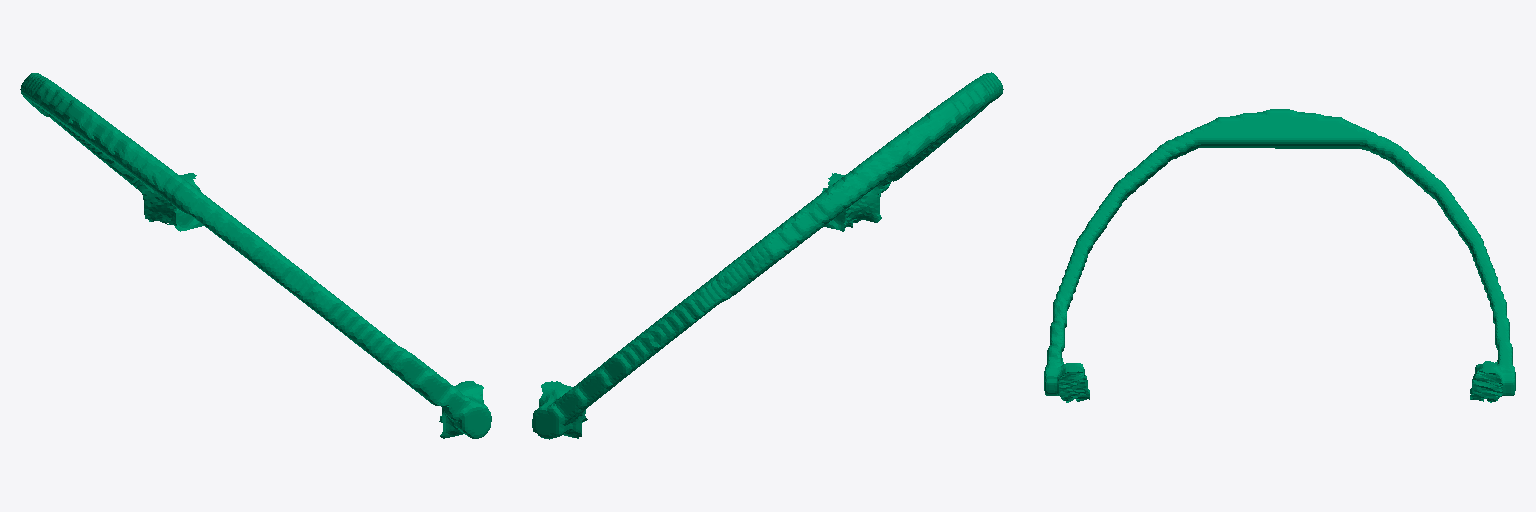
robot.urdf — object:
<?xml version='1.0' encoding='utf-8'?>
<robot name="object">
  <link name="base">
    <inertial>
      <origin xyz="0 0 0" rpy="0 0 0" />
      <mass value="0.0" />
      <inertia ixx="0" ixy="0" ixz="0" iyy="0" iyz="0" izz="0" />
    </inertial>
  </link>
  <link name="link_1">
    <visual>
      <origin xyz="0 0 0.680487752" rpy="0 0 0" />
      <geometry>
        <mesh filename="meshes/link_1.stl" />
      </geometry>
    </visual>
    <collision>
      <origin xyz="0 0 0.680487752" rpy="0 0 0" />
      <geometry>
        <mesh filename="meshes/link_1.stl" />
      </geometry>
    </collision>
    <inertial>
      <origin xyz="0.0265524849 -0.0234391734 0.667612729" rpy="0 0 0" />
      <mass value="281.840777" />
      <inertia ixx="100.429739" ixy="-0.0167552219" ixz="0.0537120247" iyy="101.670765" iyz="-0.108673892" izz="97.1469284" />
    </inertial>
  </link>
  <link name="link_2">
    <visual>
      <origin xyz="-0.026968776 -0.694366717 -0.572092519" rpy="0 0 0" />
      <geometry>
        <mesh filename="meshes/link_2.stl" />
      </geometry>
    </visual>
    <collision>
      <origin xyz="-0.026968776 -0.694366717 -0.572092519" rpy="0 0 0" />
      <geometry>
        <mesh filename="meshes/link_2.stl" />
      </geometry>
    </collision>
    <inertial>
      <origin xyz="-0.532994912 -0.727980616 0.902173859" rpy="0 0 0" />
      <mass value="10.0637241" />
      <inertia ixx="5.65813355" ixy="0.111222592" ixz="-1.73447032" iyy="2.33180695" iyz="0.0457833801" izz="5.08241464" />
    </inertial>
  </link>
  <joint name="joint_1_2" type="revolute">
    <parent link="link_1" />
    <child link="link_2" />
    <origin xyz="0.026968776 0.694366717 1.25258027" rpy="0 0 0" />
    <axis xyz="-0.00316817089 -0.9999947 0.000749841812" />
    <limit lower="-1.57" upper="1.57" effort="10.0" velocity="1.0" />
  </joint>
  <joint name="base_to_1" type="fixed">
    <parent link="base" />
    <child link="link_1" />
    <origin xyz="0 0 -0.680487752" rpy="0 0 0" />
  </joint>
</robot>

--- What the picture shows (computed from the rendered views, not written in the file) ---
3 views of the same robot in one strip: view 1: azimuth 30°, elevation 25°; view 2: azimuth 150°, elevation 25°; view 3: azimuth 270°, elevation 25° (orthographic).
Model object with 3 links and 2 joints (1 revolute, 1 fixed), rooted at base, posed all joints at 0.
Visible links, largest first — view 1: link_2; view 2: link_2; view 3: link_2.
Boxes of the visible links, left/top/right/bottom form: link_2: left=20, top=73, right=491, bottom=438; link_2: left=532, top=72, right=1003, bottom=439; link_2: left=1044, top=109, right=1515, bottom=402.
Bounding box of the posed robot: 0.7933 × 1.64 × 0.7854 m (x, y, z).
Meshes: 2 distinct files referenced, 1 mesh visuals loaded (1 binary STL); not drawn: 1 (reference not matched to a file when rendering).
